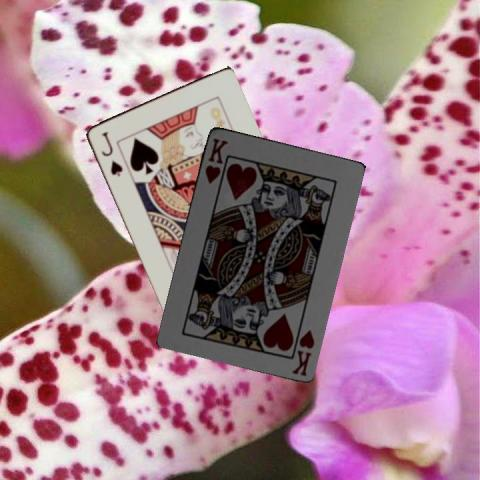Js: (98, 129, 124, 178)
Kh: (202, 135, 230, 185), (289, 326, 316, 377)
